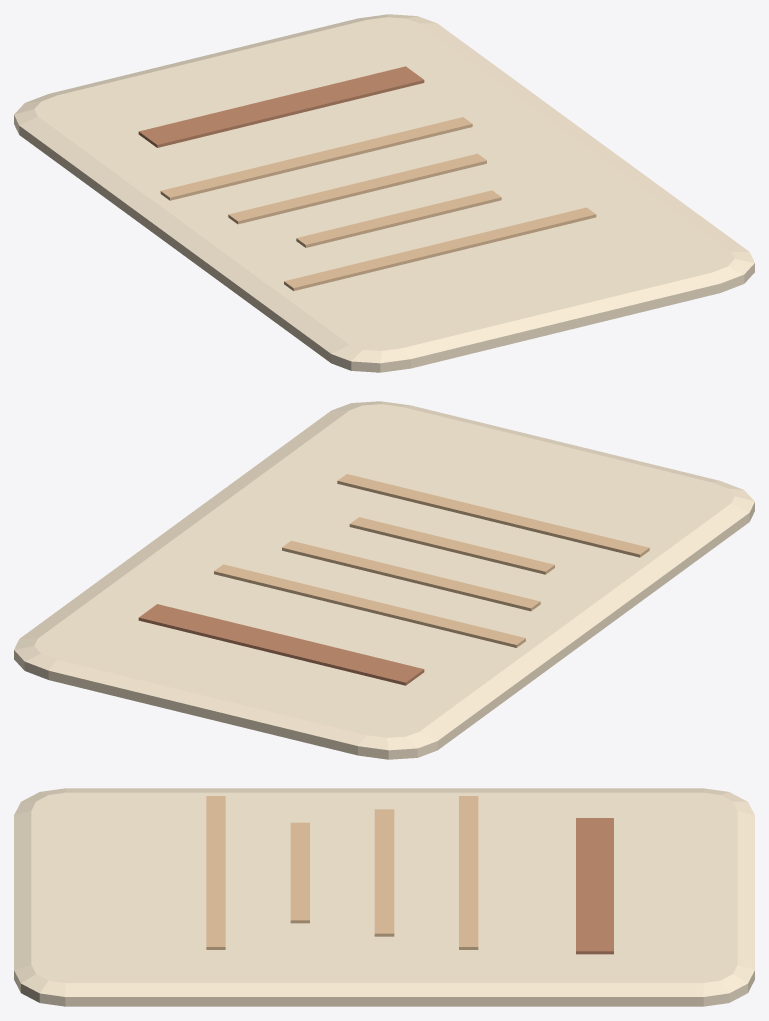
Rendered from payment_receipt.glb.
The picture shows the model from 3 angles, top to bottom: view 1: azimuth 30°, elevation 25°; view 2: azimuth 150°, elevation 25°; view 3: azimuth 270°, elevation 25°; orthographic projection. The views are drawn at different scales.
Visible parts, largest first — view 1: model; view 2: model; view 3: model.
Part boxes in pixels (box(x1,y1,x2,y2)): model: box(14, 14, 754, 372); model: box(14, 401, 754, 759); model: box(14, 788, 754, 1006).
Bounding box in the file's own units: 0.4 × 0.02 × 0.6.
